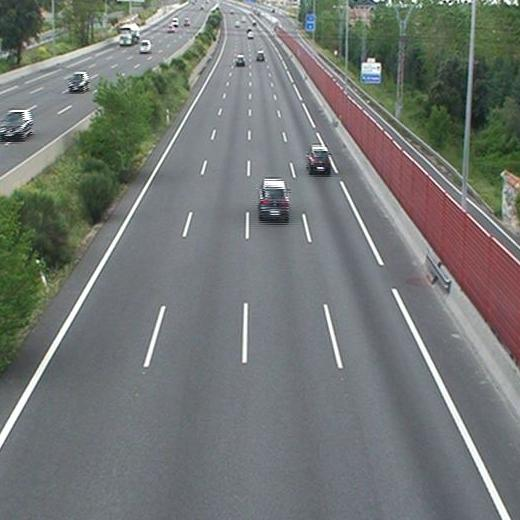car: (258, 181, 289, 219), (308, 145, 329, 171), (234, 56, 245, 66), (255, 51, 265, 62)
